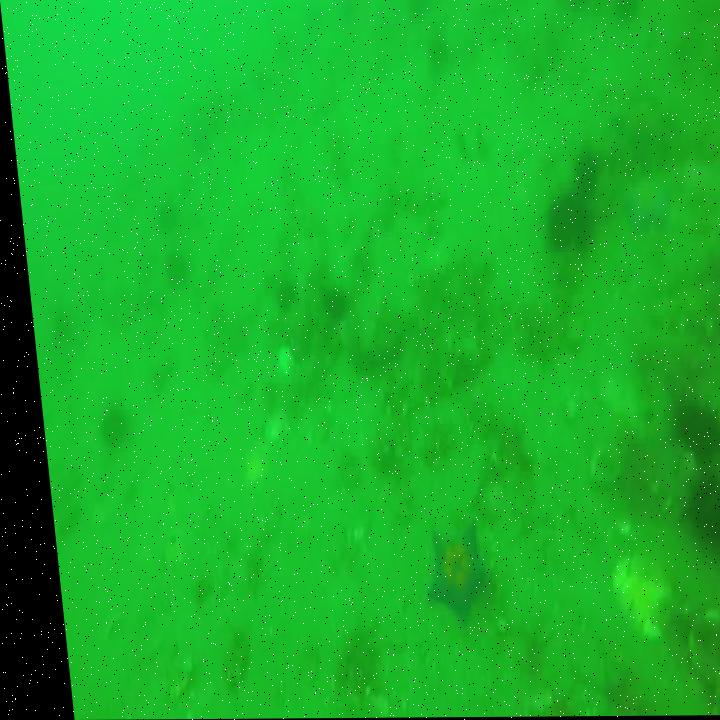echinus: (664, 394, 720, 460), (671, 477, 720, 551), (536, 187, 590, 251), (563, 142, 601, 187)
holothurian: (365, 334, 479, 418), (642, 278, 720, 350), (228, 450, 261, 482)
scallop: (597, 549, 661, 632), (671, 609, 720, 716), (574, 439, 620, 487)
starfish: (406, 522, 482, 624)
